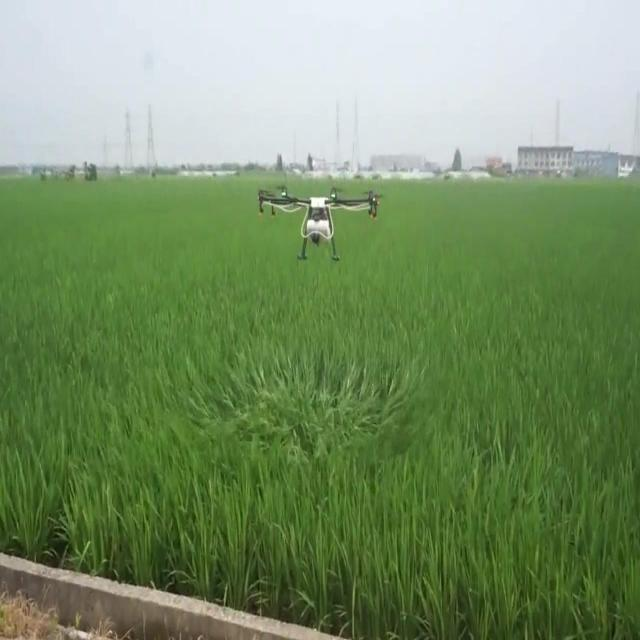drone: (257, 183, 383, 266)
